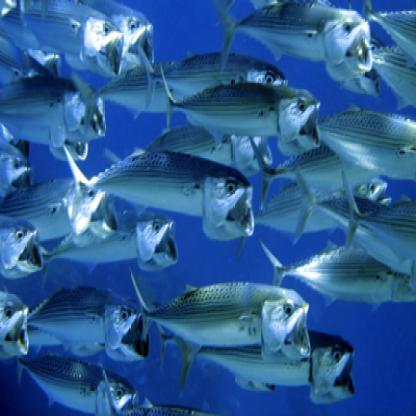Scombridae -Tunas-: (61, 139, 259, 240), (128, 269, 318, 366), (157, 62, 322, 153), (25, 278, 155, 364), (1, 1, 122, 79)
